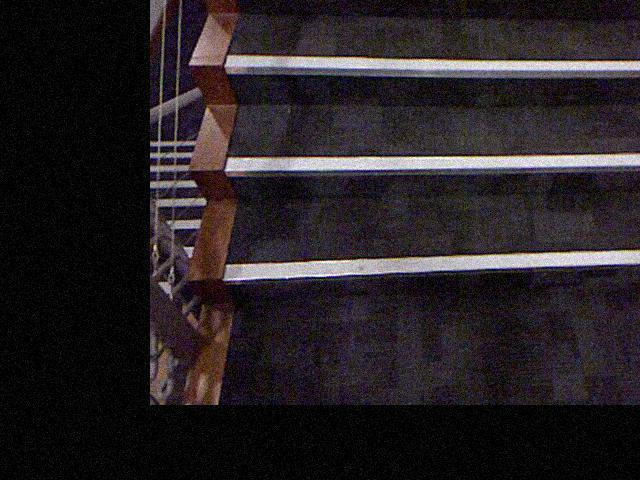Escaleras: (194, 0, 640, 330), (150, 133, 201, 404)
